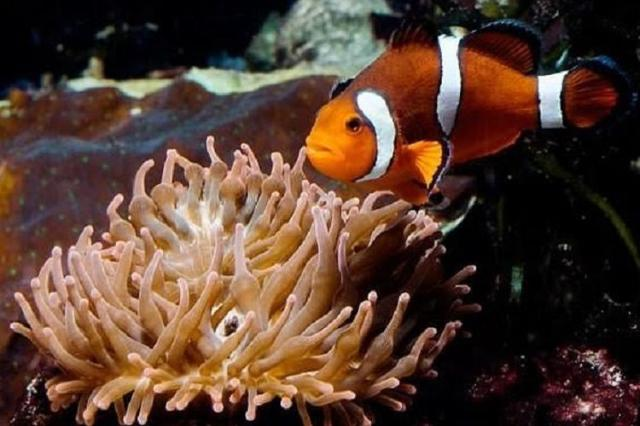Mulut: (294, 128, 346, 178)
Sirip Dada: (397, 128, 459, 194)
Sirip Ekor: (550, 46, 636, 160)
Sirip Perut: (377, 174, 435, 230)
Sirip Punggung: (381, 8, 551, 80)
